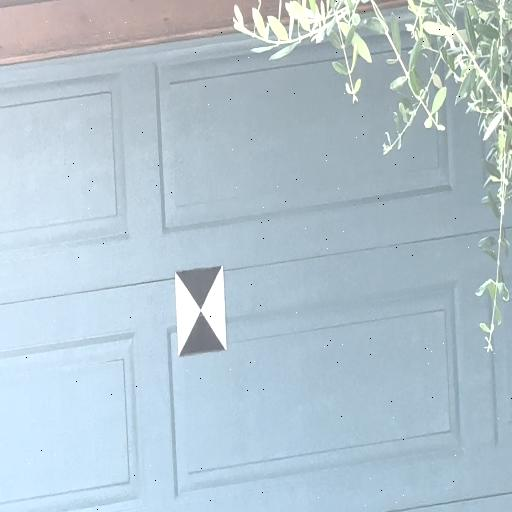target: (175, 265, 227, 356)
